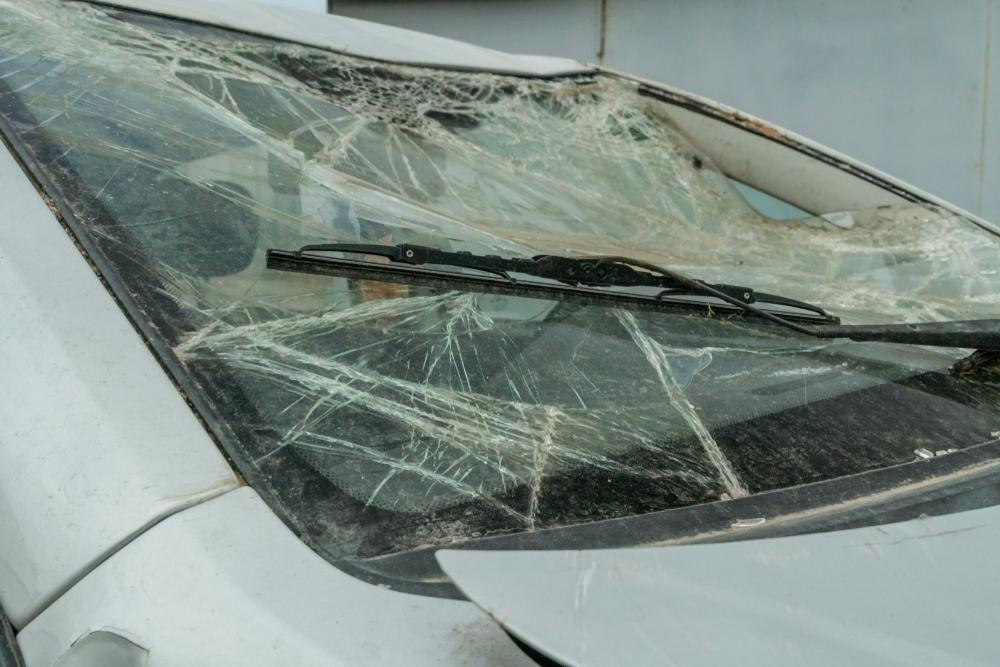glass shatter: (0, 0, 1000, 560)
